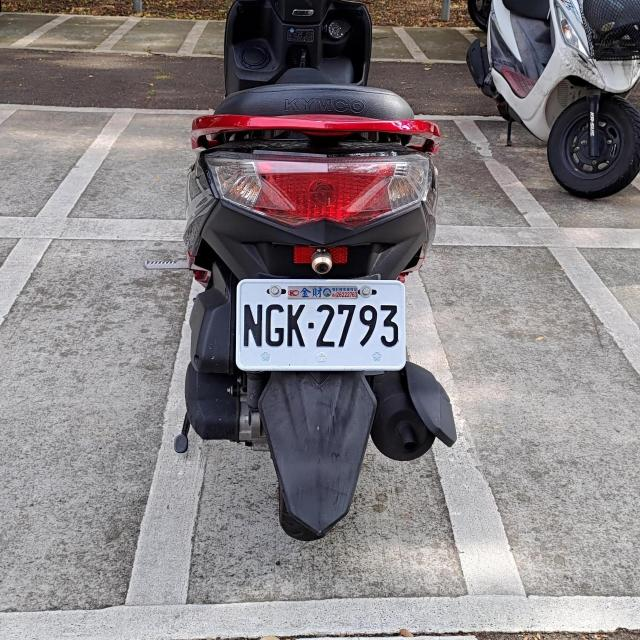W: (236, 279, 404, 370)
